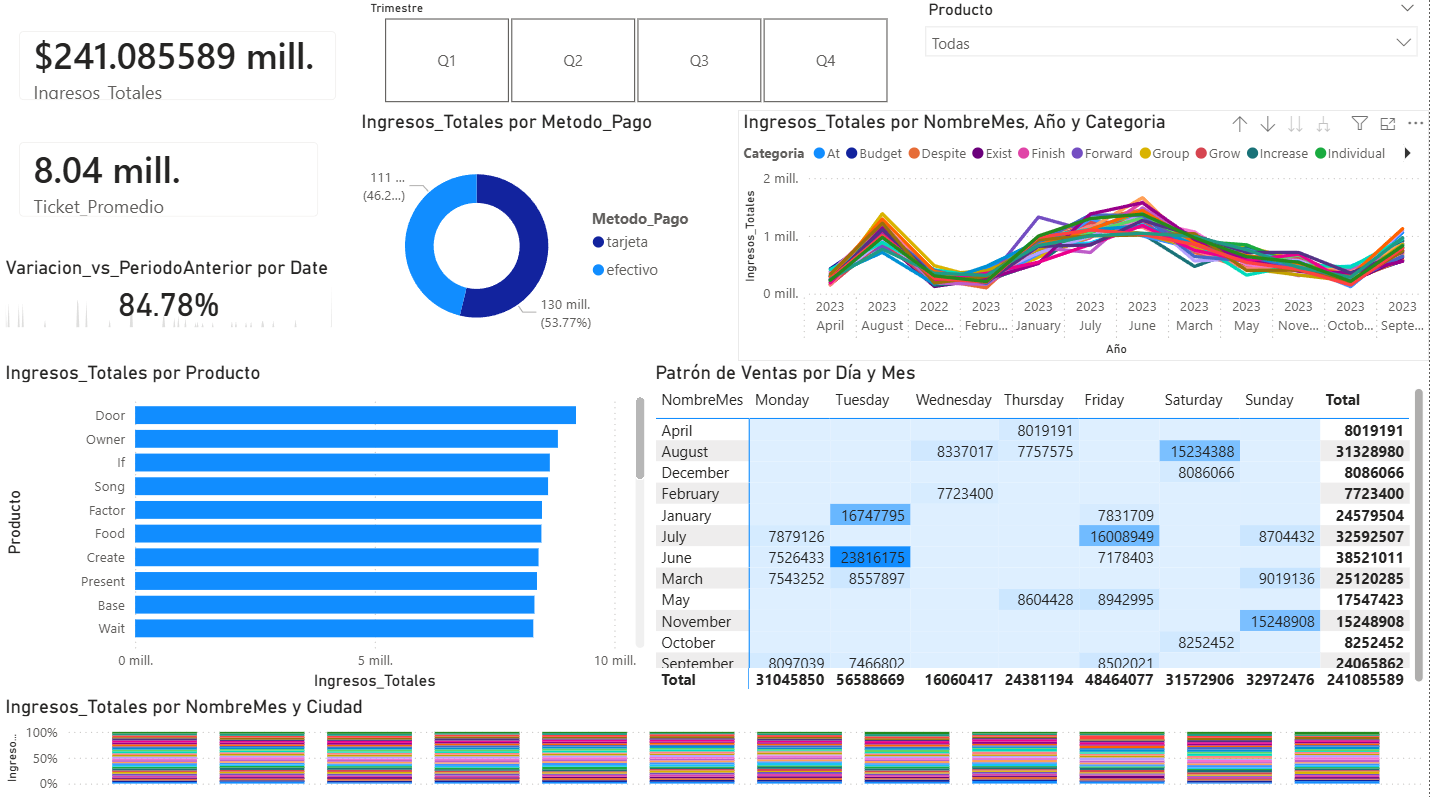

The page's visual inventory and layout, read from the dashboard file:
{"tool":"powerbi","page":{"name":"Página 1","canvas":[1280,720],"ordinal":0},"visuals":[{"type":"cardVisual","fields":{"Data":["Ventas.Ingresos_Totales"]},"box":[0,15.6,318.9,96.7],"z":0},{"type":"kpi","fields":{"Indicator":["Ventas.Variacion_vs_PeriodoAnterior"],"TrendLine":["Calendario.Date"]},"box":[0,233.3,302.2,68.9],"z":1000},{"type":"cardVisual","fields":{"Data":["Ventas.Ticket_Promedio"]},"box":[0,114.4,302.2,101.1],"z":2000},{"type":"lineChart","fields":{"Category":["Calendario.NombreMes","Calendario.Año"],"Y":["Ventas.Ingresos_Totales"],"Series":["Ventas.Categoria"]},"box":[661.1,103.3,618.9,224.4],"z":3000},{"type":"barChart","fields":{"Category":["Ventas.Producto"],"Y":["Ventas.Ingresos_Totales"]},"box":[0,327.8,582.2,298.9],"z":4000},{"type":"pivotTable","title":"Patrón de Ventas por Día y Mes","fields":{"Rows":["Calendario.NombreMes"],"Values":["Ventas.Ingresos_Totales"],"Columns":["Calendario.DiaSemana"]},"box":[582.2,327.8,697.8,298.9],"z":5000},{"type":"donutChart","fields":{"Category":["Ventas.Metodo_Pago"],"Y":["Ventas.Ingresos_Totales"]},"box":[318.9,103.3,321.1,224.4],"z":6000},{"type":"hundredPercentStackedColumnChart","fields":{"Category":["Calendario.NombreMes"],"Y":["Ventas.Ingresos_Totales"],"Series":["Ventas.Ciudad"]},"box":[0,626.7,1280,93.3],"z":7000},{"type":"slicer","fields":{"Values":["Calendario.Trimestre"]},"box":[318.9,0,500,103.3],"z":8000},{"type":"slicer","fields":{"Values":["Ventas.Producto"]},"box":[818.9,0,461.1,103.3],"z":9000}]}

Visuals, with their boxes in screenshot pixels (x1, y1, x2, y2), scaled from the page's 1280x720 canvas onto the 1430x797 screenshot:
cardVisual - Ventas.Ingresos_Totales: 0, 17, 356, 124
kpi - Ventas.Variacion_vs_PeriodoAnterior x Calendario.Date: 0, 258, 338, 335
cardVisual - Ventas.Ticket_Promedio: 0, 127, 338, 239
lineChart - Calendario.NombreMes x Calendario.Año: 739, 114, 1429, 363
barChart - Ventas.Producto x Ventas.Ingresos_Totales: 0, 363, 650, 694
"Patrón de Ventas por Día y Mes" pivotTable: 650, 363, 1429, 694
donutChart - Ventas.Metodo_Pago x Ventas.Ingresos_Totales: 356, 114, 715, 363
hundredPercentStackedColumnChart - Calendario.NombreMes x Ventas.Ingresos_Totales: 0, 694, 1429, 796
slicer - Calendario.Trimestre: 356, 0, 915, 114
slicer - Ventas.Producto: 915, 0, 1429, 114
